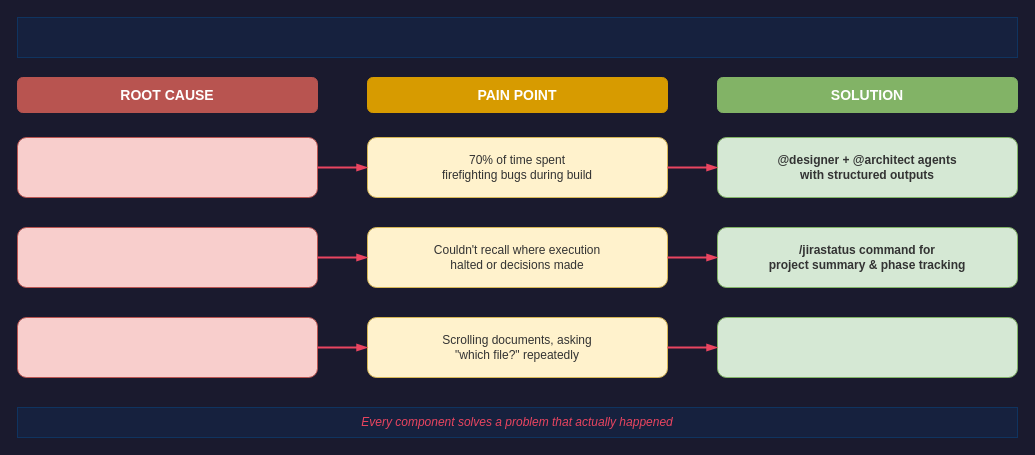
The diagram is 1035 pixels wide and 455 high, and some of its shapes have lost their labels. The box of each missing label's shape, as (x1, y1, x2, y2) in pixels:
Context scattered across chat history: (16, 226, 318, 288)
Jira integration for external review & decision-making: (716, 316, 1018, 378)
Jumped to code without validated requirements: (16, 136, 318, 198)
RETROSPECTIVE LEARNINGS: Root Cause → Pain Point → Solution: (16, 16, 1018, 58)
Reviews mixed with development workflow: (16, 316, 318, 378)
